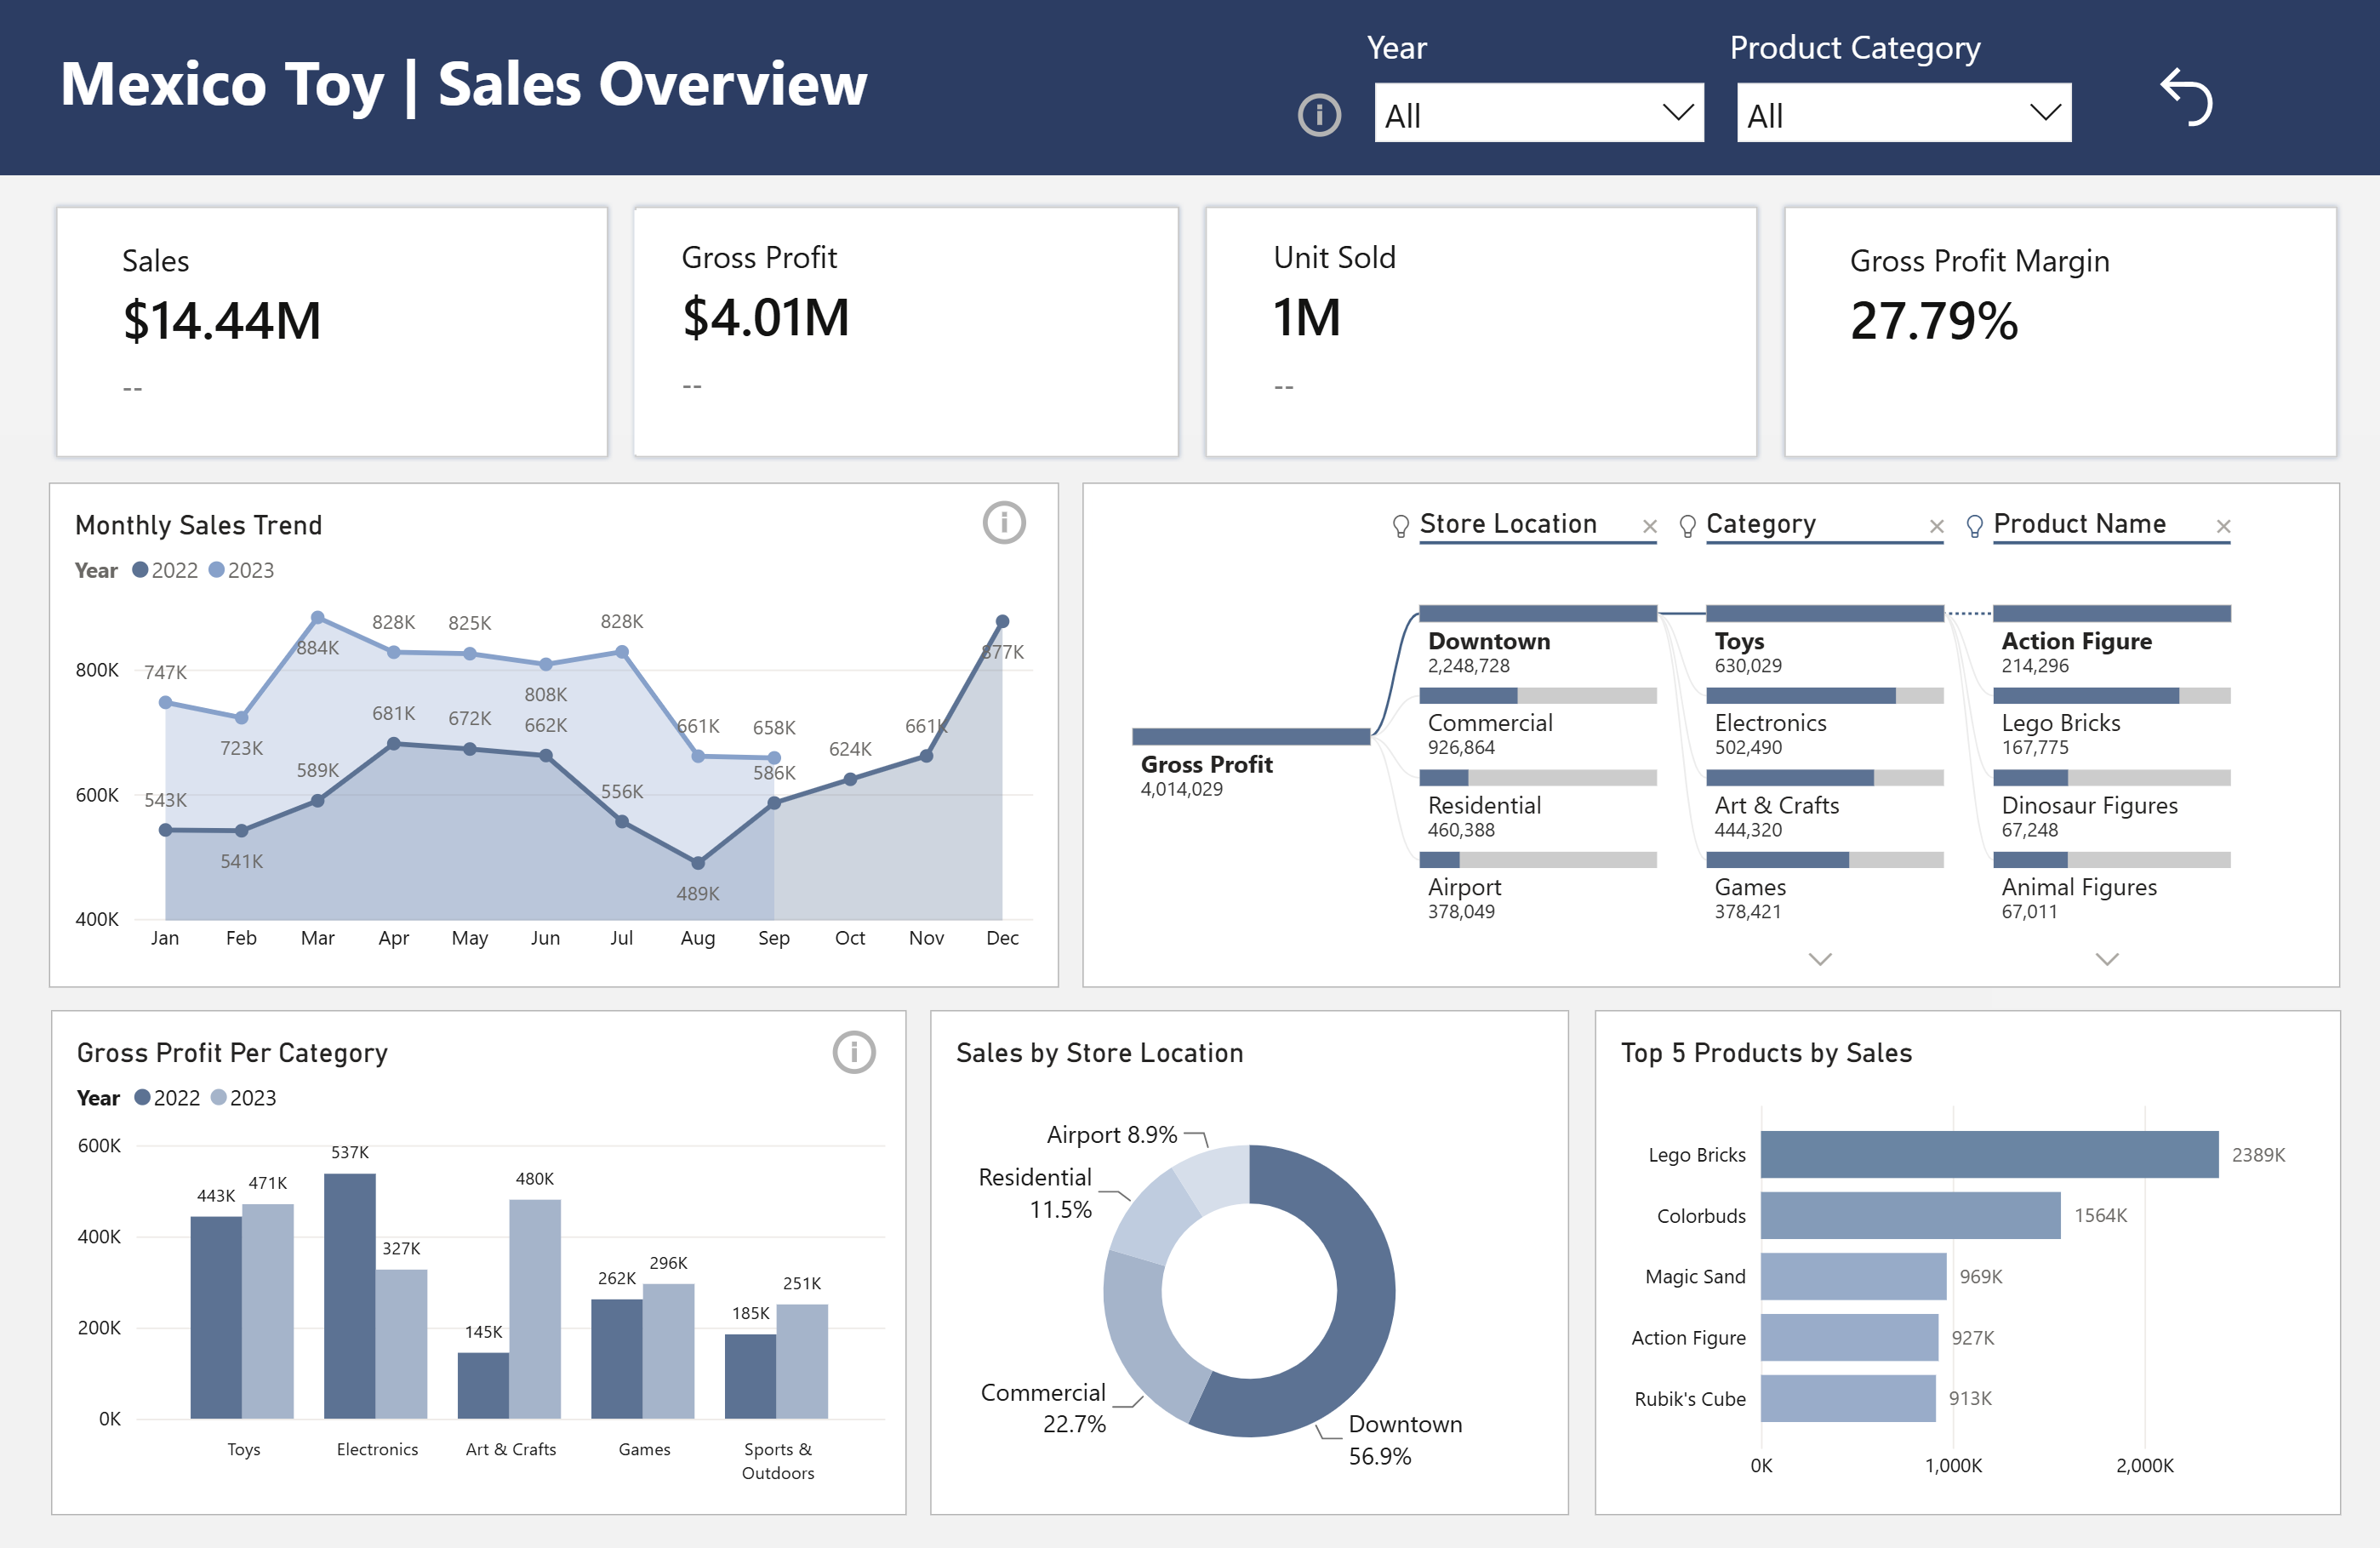

This screenshot's page, from the dashboard's own definition file:
{"tool":"powerbi","page":{"name":"Sales","canvas":[1464,950],"ordinal":0},"visuals":[{"type":"shape","box":[32.9,123.5,345,160],"z":0,"group":"g1"},{"type":"shape","box":[387.9,123.5,340.1,160],"z":0,"group":"g2"},{"type":"areaChart","title":"Monthly Sales Trend","fields":{"Category":["Calendar.Month Short"],"Series":["Calendar.Year"],"Y":["Sum(sales.Sale_amoumt)"]},"box":[32,296,620,310],"z":0},{"type":"shape","box":[738,123.5,345,160],"z":1000,"group":"g3"},{"type":"decompositionTreeVisual","title":"Monthly Sales Trend","fields":{"Analyze":["Sum(sales.Gross_Profit)"],"ExplainBy":["stores.Store_Location","products.Product_Category","products.Product_Name"]},"box":[666,296,772,310],"z":1000},{"type":"shape","box":[1092.9,123.5,345.6,160],"z":1500,"group":"g4"},{"type":"clusteredColumnChart","title":"Gross Profit Per Category","fields":{"Category":["products.Product_Category"],"Series":["Calendar.Year"],"Y":["Sum(sales.Gross_Profit)"]},"box":[32.5,620,525,310],"z":2000},{"type":"clusteredBarChart","title":"Top 5 Products by Sales","fields":{"Category":["products.Product_Name"],"Y":["Sum(sales.Sale_amoumt)"]},"box":[980,620,458,310],"z":3000},{"type":"donutChart","title":"Sales by Store Location","fields":{"Category":["stores.Store_Location"],"Y":["Sum(sales.Sale_amoumt)"]},"box":[572,620,392,310],"z":4000},{"type":"group","id":"g1","title":"Group 1","box":[32.9,123.5,345,160],"z":5000},{"type":"group","id":"g2","title":"Group 2","box":[387.9,123.5,340.1,160],"z":6000},{"type":"group","id":"g3","title":"Group 3","box":[738,123.5,345,160],"z":7000},{"type":"group","id":"g4","title":"Group 4","box":[1092.9,123.5,345.6,160],"z":8000},{"type":"cardVisual","fields":{"Data":["Metric.Sales"]},"box":[47.9,131.3,310,148.1],"z":8000,"group":"g1"},{"type":"textbox","title":"Sales Overview","box":[0,0,1465,107.5],"z":9000},{"type":"slicer","title":"Year","fields":{"Values":["Calendar.Year"]},"box":[835,15,222,84],"z":10000},{"type":"cardVisual","fields":{"Data":["Metric.Gross Profit"]},"box":[390.5,128.5,332.5,150],"z":10000,"group":"g2"},{"type":"slicer","title":"Product Category","fields":{"Values":["products.Product_Category"]},"box":[1057.5,15,225,82.5],"z":11000},{"type":"cardVisual","fields":{"Data":["Metric.Unit Sold"]},"box":[753.4,128.8,312.8,151.6],"z":11000,"group":"g3"},{"type":"actionButton","box":[1295,35,97.5,47.5],"z":12000},{"type":"cardVisual","fields":{"Data":["Metric.Gross Profit Margin"]},"box":[1107,128.5,314,104],"z":12000,"group":"g4"},{"type":"textbox","box":[32.3,18,524.2,79],"z":13000},{"type":"actionButton","box":[794,52,44,36],"z":14000},{"type":"actionButton","box":[508,628,48,36],"z":15000},{"type":"actionButton","box":[600,302,48,36],"z":16000}]}

Visuals, with their boxes in screenshot pixels (x1, y1, x2, y2), scaled from the page's 1464x950 canvas onto the 2380x1548 screenshot:
shape: <bbox>54, 201, 614, 462</bbox>
shape: <bbox>631, 201, 1184, 462</bbox>
"Monthly Sales Trend" areaChart: <bbox>52, 483, 1060, 987</bbox>
shape: <bbox>1200, 201, 1761, 462</bbox>
"Monthly Sales Trend" decompositionTreeVisual: <bbox>1082, 483, 2337, 987</bbox>
shape: <bbox>1777, 201, 2338, 462</bbox>
"Gross Profit Per Category" clusteredColumnChart: <bbox>53, 1010, 906, 1516</bbox>
"Top 5 Products by Sales" clusteredBarChart: <bbox>1593, 1010, 2337, 1516</bbox>
"Sales by Store Location" donutChart: <bbox>930, 1010, 1567, 1516</bbox>
"Group 1" group: <bbox>54, 201, 614, 462</bbox>
"Group 2" group: <bbox>631, 201, 1184, 462</bbox>
"Group 3" group: <bbox>1200, 201, 1761, 462</bbox>
"Group 4" group: <bbox>1777, 201, 2338, 462</bbox>
cardVisual - Metric.Sales: <bbox>78, 214, 582, 455</bbox>
"Sales Overview" textbox: <bbox>0, 0, 2379, 175</bbox>
"Year" slicer: <bbox>1357, 25, 1718, 162</bbox>
cardVisual - Metric.Gross Profit: <bbox>635, 209, 1175, 454</bbox>
"Product Category" slicer: <bbox>1719, 25, 2085, 159</bbox>
cardVisual - Metric.Unit Sold: <bbox>1224, 210, 1733, 457</bbox>
actionButton: <bbox>2105, 57, 2263, 134</bbox>
cardVisual - Metric.Gross Profit Margin: <bbox>1800, 209, 2310, 379</bbox>
textbox: <bbox>53, 29, 905, 158</bbox>
actionButton: <bbox>1291, 85, 1362, 143</bbox>
actionButton: <bbox>826, 1023, 904, 1082</bbox>
actionButton: <bbox>975, 492, 1053, 551</bbox>
